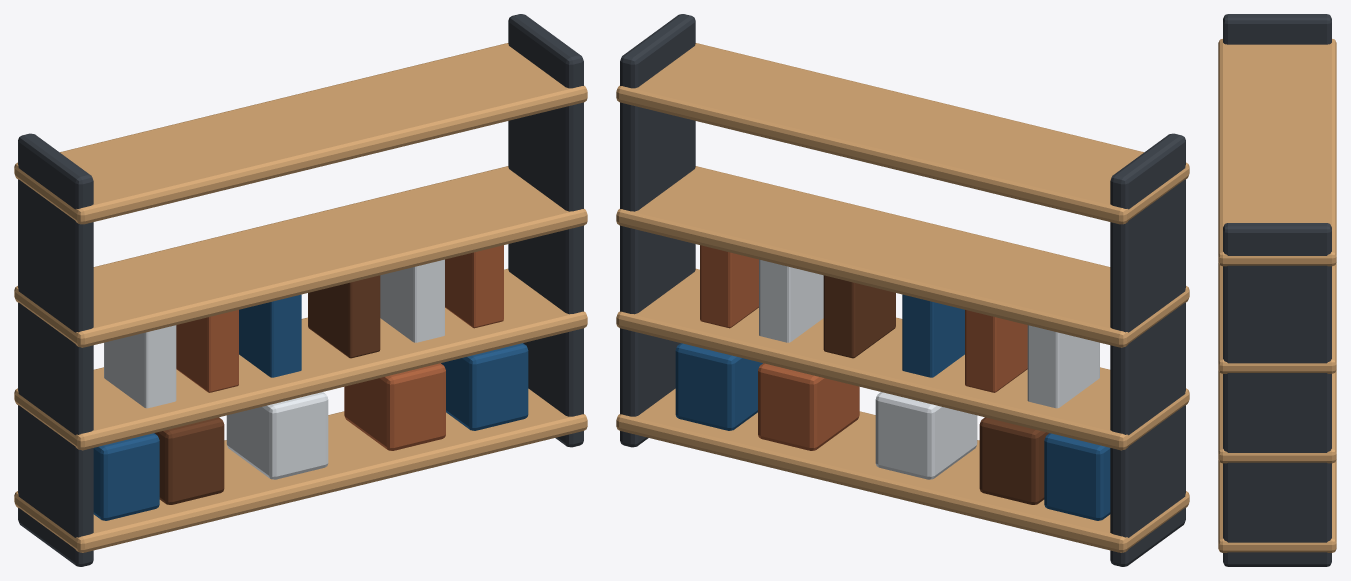
The model's file is office-shelf.glb.
3 renders of one model, left to right at view 1: azimuth 30°, elevation 25°; view 2: azimuth 150°, elevation 25°; view 3: azimuth 270°, elevation 25°, orthographic. The views are drawn at different scales.
Parts seen in each view (by area): view 1: shelf · Natural oak, shelf · Graphite metal, shelf · Warm white, shelf · Deep blue fabric, shelf · Terracotta, shelf · Walnut; view 2: shelf · Natural oak, shelf · Graphite metal, shelf · Warm white, shelf · Deep blue fabric, shelf · Terracotta, shelf · Walnut; view 3: shelf · Graphite metal, shelf · Natural oak.
Part boxes in pixels (x1,y1,x2,y2): shelf · Natural oak: [14, 43, 587, 552]; shelf · Graphite metal: [18, 14, 583, 566]; shelf · Warm white: [104, 259, 444, 479]; shelf · Deep blue fabric: [93, 294, 528, 520]; shelf · Terracotta: [176, 245, 503, 450]; shelf · Walnut: [154, 275, 380, 504]; shelf · Natural oak: [616, 43, 1189, 552]; shelf · Graphite metal: [620, 14, 1185, 566]; shelf · Warm white: [759, 259, 1099, 479]; shelf · Deep blue fabric: [675, 294, 1110, 520]; shelf · Terracotta: [700, 245, 1027, 450]; shelf · Walnut: [823, 275, 1049, 504]; shelf · Graphite metal: [1223, 14, 1331, 566]; shelf · Natural oak: [1218, 39, 1336, 552].
Bounding box in the file's own units: 2.6 × 1.9 × 0.6.
